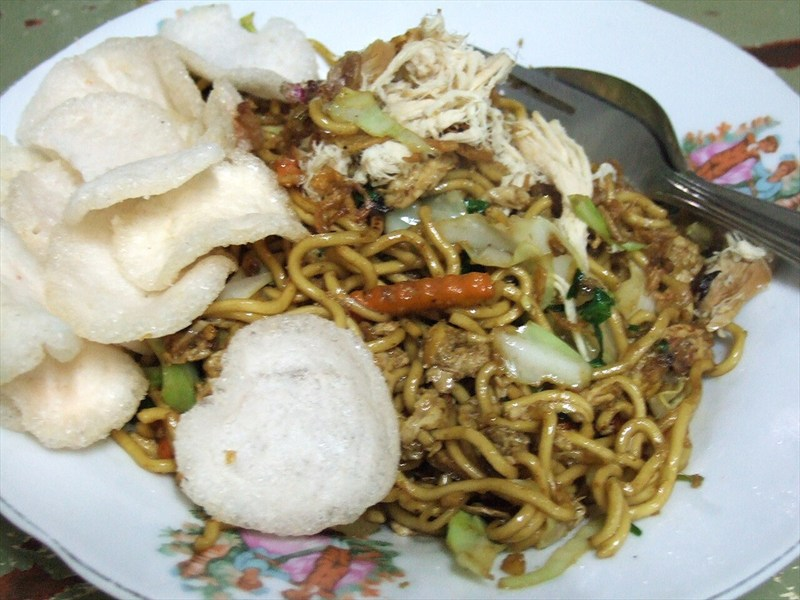Mie Goreng: (137, 94, 703, 536)
